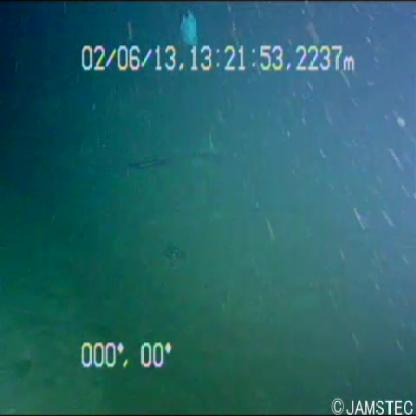Rác: (176, 1, 205, 56)
